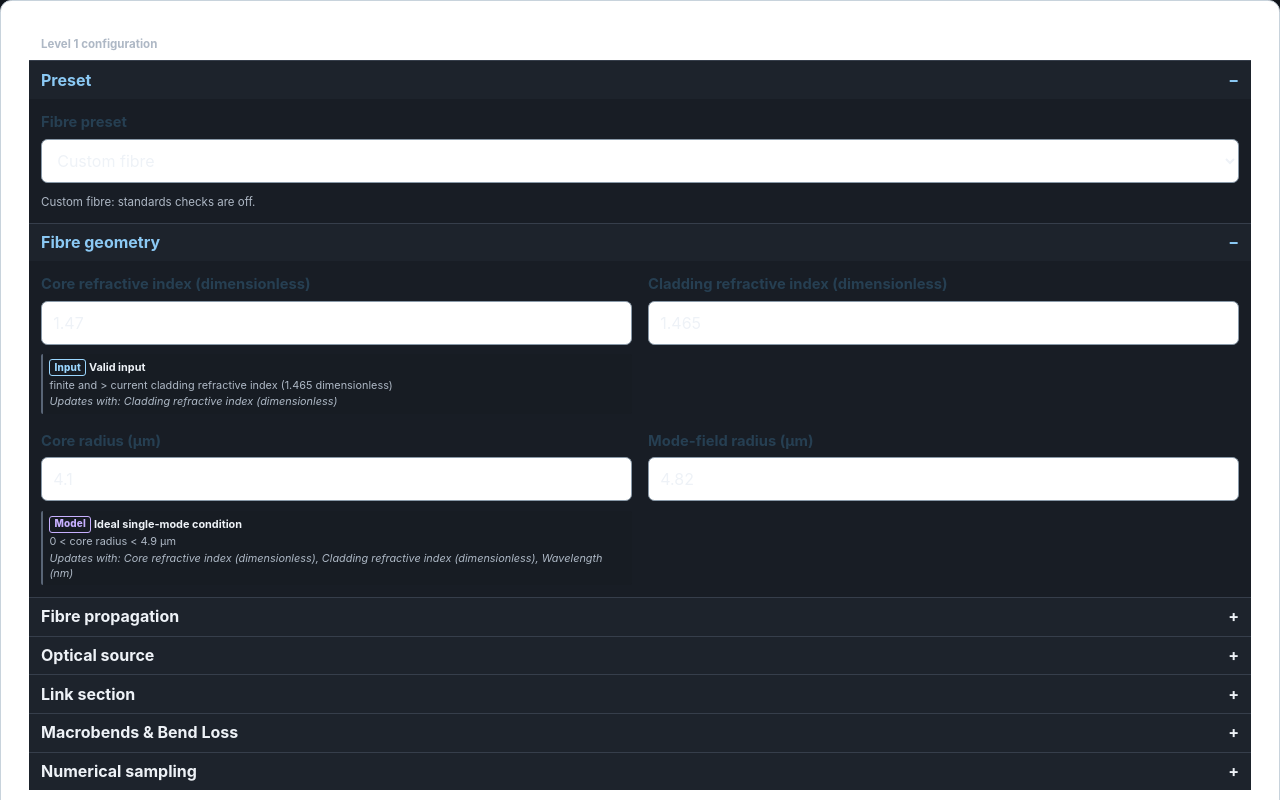
it: Level1Form inspector accordion › describes supplied boundaries and dependencies without adding issue tone
Expected: the text "Input" is shown, [49,359,86,376]
Expected: the text "Valid input" is shown, [89,360,146,374]
Click the button "Optical source +": (98, 655) [29,637,1251,674]
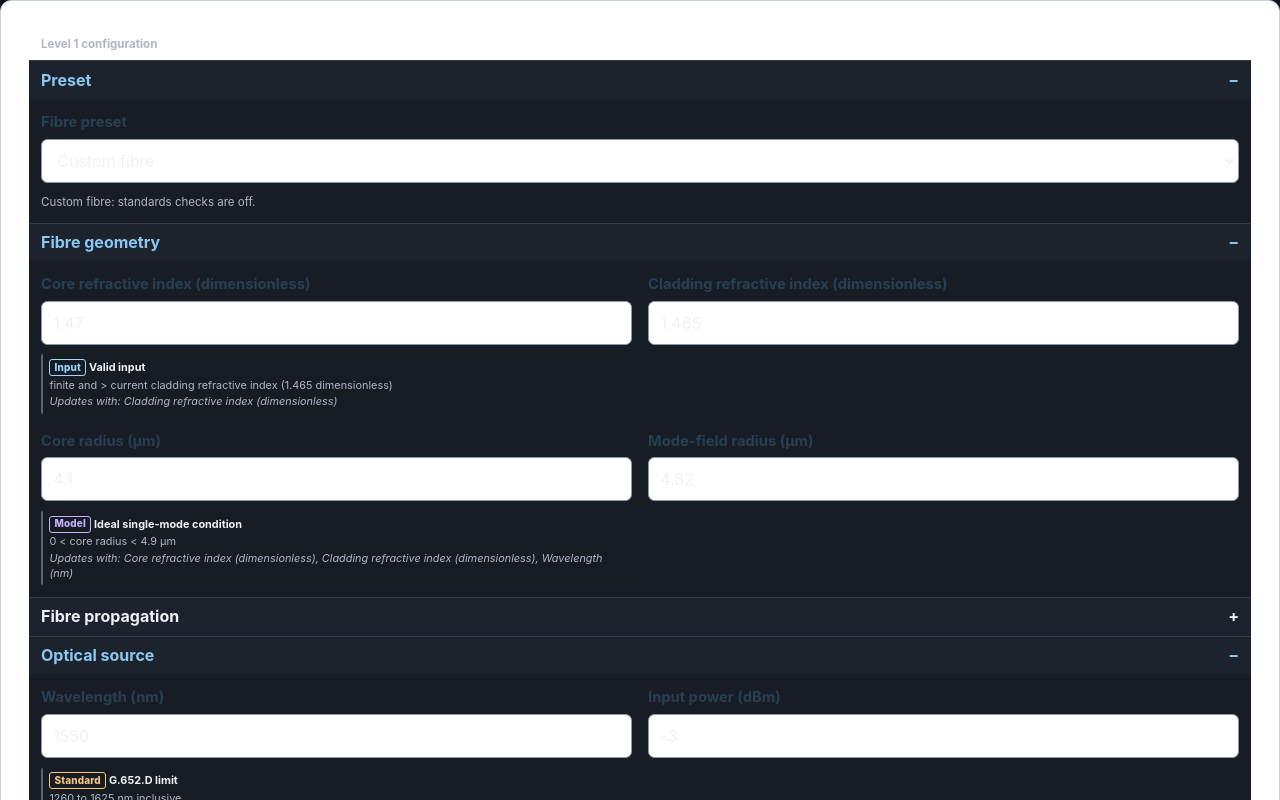
Expected: the text "Updates with: Core refractive index (dimensionless), Cladding refractive index (dimensionless), Wavelength (nm)" is shown, [49,551,626,580]
Result: the text "Standard" is shown at [49,772,106,789]
Result: the text "G.652.D limit" is shown at [109,773,178,787]
